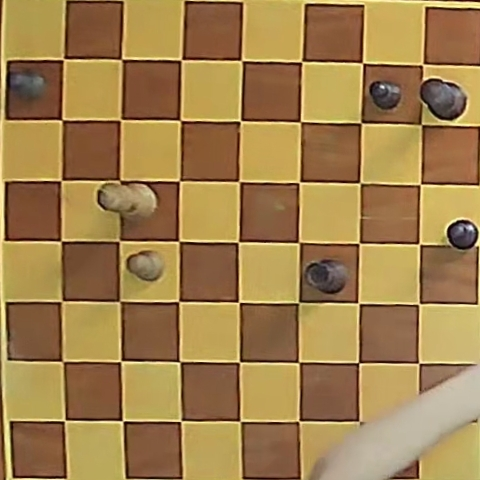black-king: (419, 79, 467, 121)
black-pawn: (10, 69, 47, 100), (446, 219, 478, 251), (370, 80, 402, 110)
black-rook: (305, 259, 348, 294)
white-king: (100, 183, 157, 219)
white-pawn: (127, 251, 164, 281)
